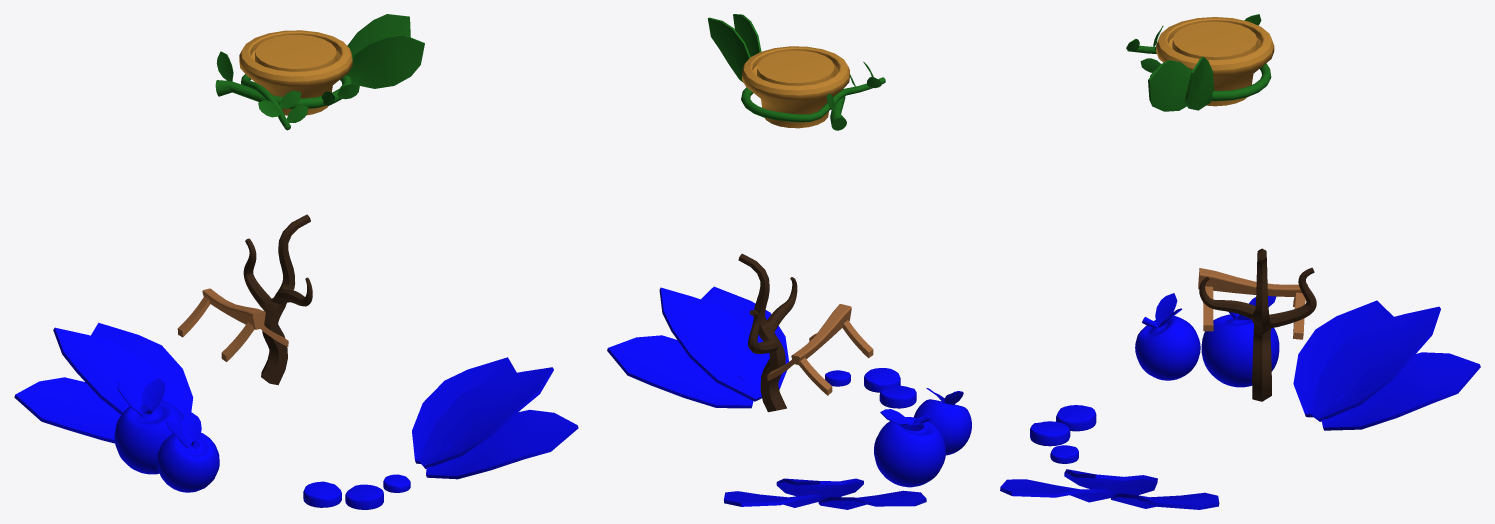
File: World in a bottle UV.obj
The picture shows the model from 3 angles, left to right: view 1: azimuth 30°, elevation 25°; view 2: azimuth 150°, elevation 25°; view 3: azimuth 270°, elevation 25°; orthographic projection. The views are drawn at different scales.
Parts seen in each view (by area): view 1: Cork Glass_Bottle, Outsidestuff Glass_Leafs Leaf3, Outsidestuff Glass_Leafs Leaf4, Outsidestuff Glass_Leafs1 Leaf3, Outsidestuff Leaf2 Glass_Leafs1, pCylinder1 tree Inside_stuff, Outsidestuff Fruit blurberyy Blueberry2, Glass_Bottle Vines Leaf6, Outsidestuff blurberyy Blueberry1 Fruit, Outsidestuff Leaf2 Glass_Leafs, Outsidestuff Glass_Leafs1 Leaf4, Glass_Bottle VIne Vines (+4 smaller); view 2: Outsidestuff Glass_Leafs Leaf3, Cork Glass_Bottle, Outsidestuff Leaf2 Glass_Leafs, Outsidestuff Fruit blurberyy Blueberry2, pCylinder1 tree Inside_stuff, Outsidestuff blurberyy Blueberry1 Fruit, Glass_Bottle VIne Vines, Outsidestuff Glass_Leafs Leaf4, Glass_Bottle Vines Leaf14, Outsidestuff Leaf2 Glass_Leafs1, Outsidestuff Glass_Leafs1 Leaf3, Outsidestuff Glass_Leafs1 Leaf4 (+6 smaller); view 3: Outsidestuff Glass_Leafs1 Leaf3, Cork Glass_Bottle, Outsidestuff Glass_Leafs1 Leaf4, pCylinder1 tree Inside_stuff, Outsidestuff Fruit blurberyy Blueberry2, Outsidestuff Leaf2 Glass_Leafs1, Outsidestuff blurberyy Blueberry1 Fruit, Glass_Bottle Vines Leaf6, Outsidestuff Glass_Leafs Leaf4, Outsidestuff Glass_Leafs Leaf3, Inside_stuff Frame_work Roof house roof1, Outsidestuff Leaf2 Glass_Leafs (+4 smaller).
Part boxes in pixels (box(x1,y1,x2,y2)): Cork Glass_Bottle: box(239, 30, 352, 115); Outsidestuff Glass_Leafs Leaf3: box(417, 367, 553, 468); Outsidestuff Glass_Leafs Leaf4: box(426, 409, 578, 479); Outsidestuff Glass_Leafs1 Leaf3: box(53, 327, 171, 414); Outsidestuff Leaf2 Glass_Leafs1: box(14, 377, 121, 443); pCylinder1 tree Inside_stuff: box(243, 214, 312, 385); Outsidestuff Fruit blurberyy Blueberry2: box(114, 400, 184, 474); Glass_Bottle Vines Leaf6: box(345, 34, 424, 88); Outsidestuff blurberyy Blueberry1 Fruit: box(157, 432, 219, 492); Outsidestuff Leaf2 Glass_Leafs: box(412, 357, 516, 463); Outsidestuff Glass_Leafs1 Leaf4: box(91, 322, 193, 416); Glass_Bottle VIne Vines: box(215, 74, 351, 130); Outsidestuff Glass_Leafs Leaf3: box(659, 287, 764, 401); Cork Glass_Bottle: box(742, 46, 849, 128); Outsidestuff Leaf2 Glass_Leafs: box(607, 335, 753, 408); Outsidestuff Fruit blurberyy Blueberry2: box(874, 413, 945, 487); pCylinder1 tree Inside_stuff: box(738, 253, 797, 412); Outsidestuff blurberyy Blueberry1 Fruit: box(914, 391, 971, 455); Glass_Bottle VIne Vines: box(741, 77, 885, 130); Outsidestuff Glass_Leafs Leaf4: box(701, 286, 788, 389); Glass_Bottle Vines Leaf14: box(707, 17, 750, 82); Outsidestuff Leaf2 Glass_Leafs1: box(818, 490, 926, 509); Outsidestuff Glass_Leafs1 Leaf3: box(776, 478, 863, 498); Outsidestuff Glass_Leafs1 Leaf4: box(724, 491, 823, 507); Outsidestuff Glass_Leafs1 Leaf3: box(1308, 306, 1440, 421); Cork Glass_Bottle: box(1156, 17, 1274, 106); Outsidestuff Glass_Leafs1 Leaf4: box(1321, 352, 1480, 430); pCylinder1 tree Inside_stuff: box(1199, 248, 1316, 401); Outsidestuff Fruit blurberyy Blueberry2: box(1201, 311, 1279, 387); Outsidestuff Leaf2 Glass_Leafs1: box(1293, 300, 1393, 417); Outsidestuff blurberyy Blueberry1 Fruit: box(1135, 315, 1200, 380); Glass_Bottle Vines Leaf6: box(1148, 60, 1191, 111); Outsidestuff Glass_Leafs Leaf4: box(1000, 479, 1117, 502); Outsidestuff Glass_Leafs Leaf3: box(1064, 469, 1157, 495); Inside_stuff Frame_work Roof house roof1: box(1198, 268, 1307, 296); Outsidestuff Leaf2 Glass_Leafs: box(1111, 492, 1219, 509).
Bounding box in the file's own units: 24.3 × 24.3 × 23.85.
